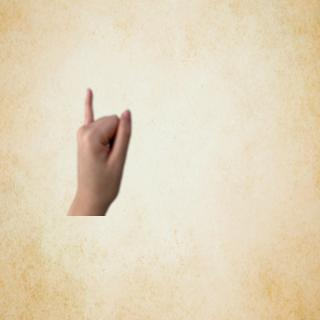Fine: (57, 83, 137, 214)
